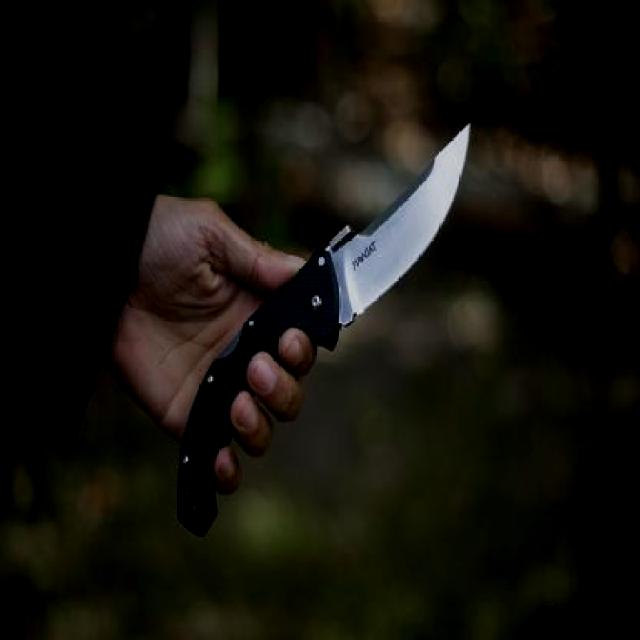knife: (168, 109, 477, 540)
